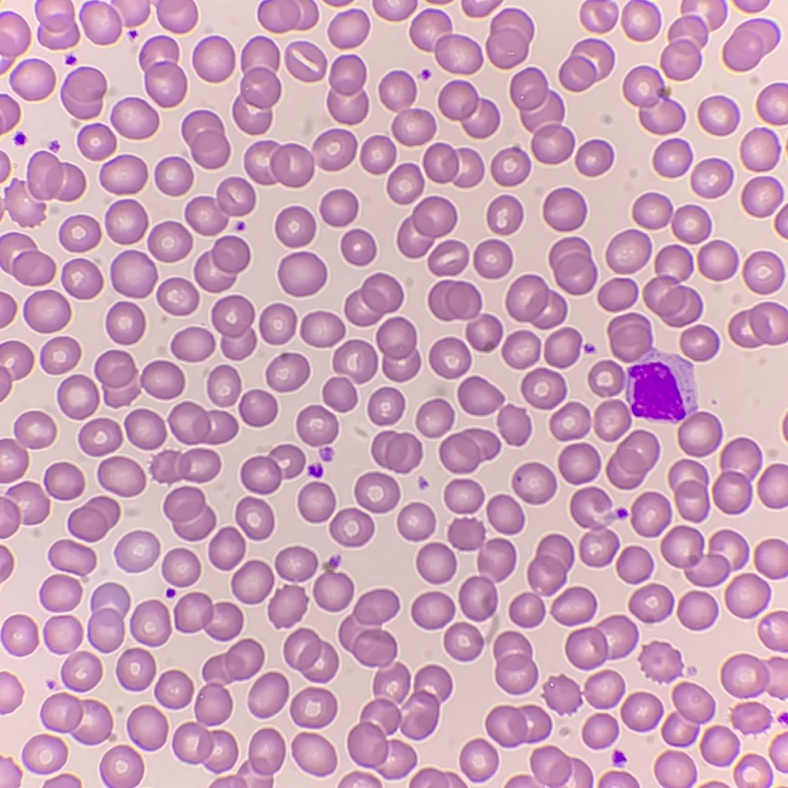RBC: (173, 639, 263, 772), (348, 665, 451, 778), (588, 313, 694, 419), (448, 519, 515, 620), (510, 67, 574, 163), (509, 534, 573, 627), (661, 526, 747, 586), (661, 0, 725, 80), (643, 245, 702, 326), (232, 37, 280, 134), (410, 9, 482, 73), (339, 589, 398, 666), (623, 66, 684, 134), (379, 71, 435, 145), (185, 177, 255, 235), (0, 411, 55, 482), (633, 193, 710, 243), (566, 615, 637, 668), (571, 487, 618, 566), (41, 693, 112, 744), (713, 438, 760, 514), (397, 197, 456, 257), (438, 80, 499, 138), (139, 36, 186, 107), (662, 683, 714, 745), (174, 593, 242, 640), (506, 275, 566, 328), (244, 140, 313, 186), (241, 444, 304, 493), (194, 236, 249, 292), (606, 430, 658, 489), (345, 274, 402, 325), (169, 402, 237, 444), (88, 583, 129, 652), (486, 8, 533, 68), (376, 317, 420, 381), (559, 39, 613, 91), (0, 233, 54, 285), (723, 19, 778, 70), (327, 55, 368, 123), (284, 629, 337, 681), (164, 486, 215, 540), (212, 295, 255, 359), (721, 654, 785, 697), (28, 152, 85, 200), (549, 237, 597, 294), (182, 110, 229, 168), (494, 631, 537, 694), (486, 705, 550, 747), (423, 143, 483, 187), (729, 302, 787, 347), (440, 429, 499, 473), (531, 746, 592, 787), (669, 460, 708, 521), (95, 350, 137, 406), (150, 449, 220, 482), (61, 67, 106, 118), (68, 496, 119, 541), (110, 250, 156, 297), (429, 280, 481, 320), (279, 252, 326, 296), (36, 0, 78, 48), (372, 431, 421, 472), (606, 229, 651, 273), (725, 573, 769, 618), (678, 411, 721, 456), (24, 290, 70, 332), (111, 97, 158, 138), (314, 562, 353, 611), (258, 0, 317, 32), (98, 456, 145, 496), (105, 199, 147, 243), (333, 340, 377, 382), (292, 733, 336, 775), (130, 600, 170, 646), (543, 188, 586, 230), (100, 745, 143, 787), (512, 463, 556, 504), (10, 60, 55, 100), (248, 728, 285, 776), (80, 1, 121, 44), (193, 38, 234, 81), (522, 368, 565, 409), (148, 221, 192, 261), (58, 375, 98, 419), (355, 472, 399, 512), (115, 531, 159, 571), (249, 672, 288, 717), (291, 688, 336, 727), (100, 155, 146, 193), (232, 561, 273, 603), (127, 706, 167, 749), (629, 584, 673, 623), (5, 180, 43, 225), (22, 735, 67, 773), (315, 129, 356, 170), (429, 337, 470, 378), (743, 251, 783, 293), (9, 482, 49, 524), (458, 377, 502, 415), (632, 492, 670, 536), (297, 405, 338, 445), (116, 648, 155, 690), (266, 353, 309, 391), (330, 508, 373, 546), (552, 587, 595, 625), (140, 361, 184, 398), (698, 95, 738, 135), (742, 176, 782, 216), (275, 206, 315, 246), (125, 409, 165, 449), (559, 443, 599, 483), (285, 42, 326, 81), (691, 158, 732, 197), (640, 642, 681, 681), (106, 302, 144, 344), (79, 418, 121, 456), (460, 739, 498, 781), (741, 128, 778, 171), (49, 540, 95, 574), (698, 240, 737, 280), (62, 259, 102, 298), (417, 543, 456, 583), (61, 652, 101, 691), (328, 10, 369, 48), (268, 585, 306, 626), (236, 497, 273, 539), (412, 592, 454, 629), (622, 0, 660, 40), (550, 402, 590, 440), (621, 692, 661, 730), (157, 278, 198, 315), (209, 527, 245, 569), (301, 312, 344, 347), (491, 147, 530, 185), (474, 239, 512, 278), (678, 591, 717, 629), (444, 622, 483, 660), (259, 304, 296, 344), (59, 215, 100, 251), (40, 575, 81, 611), (171, 327, 214, 361), (653, 139, 691, 177), (162, 548, 200, 586), (44, 615, 82, 653), (387, 163, 423, 203), (298, 482, 334, 522), (1, 615, 37, 655), (655, 751, 695, 787), (595, 400, 630, 441), (275, 547, 317, 581), (155, 157, 192, 195), (502, 331, 540, 368), (416, 399, 453, 437), (41, 337, 80, 373), (45, 463, 84, 499), (487, 495, 523, 534), (701, 726, 737, 765), (428, 240, 468, 275), (155, 671, 192, 708), (239, 390, 277, 426), (585, 671, 623, 707), (487, 195, 522, 234), (545, 328, 580, 367), (207, 365, 240, 406), (321, 189, 357, 226), (368, 387, 404, 424), (398, 503, 434, 540), (360, 135, 395, 173), (680, 325, 718, 360), (444, 479, 483, 513), (466, 315, 502, 351), (78, 124, 115, 159), (576, 140, 613, 175), (617, 546, 652, 583), (157, 0, 197, 32), (758, 464, 787, 508), (0, 15, 30, 57), (545, 677, 581, 712), (598, 278, 636, 311), (497, 406, 530, 444), (755, 539, 787, 578), (757, 83, 787, 124), (341, 229, 375, 265), (373, 665, 409, 699), (583, 713, 617, 748), (0, 341, 33, 377), (580, 0, 617, 32), (732, 702, 769, 733), (323, 377, 356, 411), (410, 768, 464, 787), (373, 0, 416, 20), (0, 497, 20, 538), (0, 94, 19, 132), (462, 0, 499, 16), (599, 772, 638, 787), (0, 758, 20, 787), (125, 3, 149, 26), (0, 293, 15, 326), (761, 632, 787, 651), (44, 774, 80, 787), (0, 546, 13, 580), (735, 0, 768, 12), (212, 776, 246, 787), (775, 206, 787, 237), (0, 367, 11, 398), (772, 734, 787, 752), (507, 776, 531, 787), (0, 153, 9, 180), (743, 755, 764, 766), (771, 657, 787, 670), (251, 778, 272, 787), (0, 700, 15, 712), (681, 0, 696, 11), (320, 448, 331, 460), (0, 672, 10, 684), (310, 464, 321, 474), (776, 611, 787, 621), (329, 0, 346, 5), (707, 782, 723, 787), (14, 688, 22, 697), (687, 395, 695, 403), (613, 752, 621, 760), (344, 777, 352, 785), (112, 0, 124, 5), (783, 421, 787, 433), (738, 783, 749, 787), (782, 764, 787, 772)
